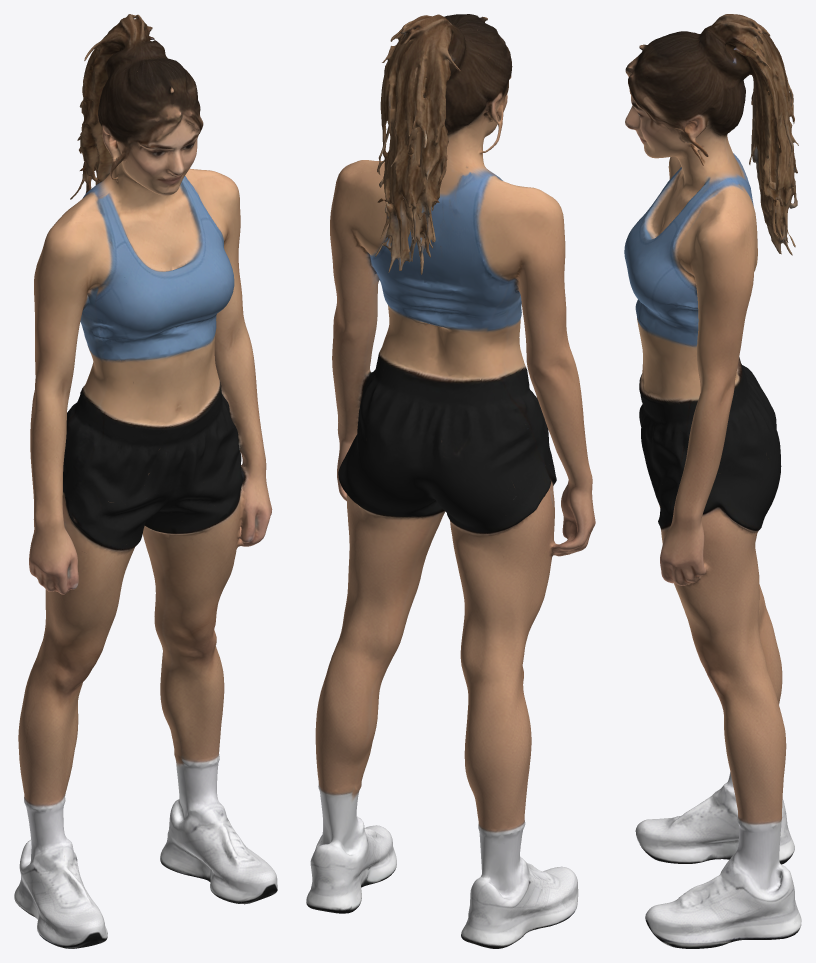
The model's file is PersonaListaParaMoverse.fbx.
3 views of the same model, side by side, from view 1: azimuth 30°, elevation 25°; view 2: azimuth 150°, elevation 25°; view 3: azimuth 270°, elevation 25° (orthographic).
Parts seen in each view (by area): view 1: Mesh_0; view 2: Mesh_0; view 3: Mesh_0.
Part boxes in pixels (x1,y1,x2,y2): Mesh_0: (14, 14, 277, 948); Mesh_0: (306, 14, 595, 948); Mesh_0: (624, 14, 801, 948).
Bounding box in the file's own units: 55.92 × 190 × 34.67.
Materials: 1 (1 with a texture image).
